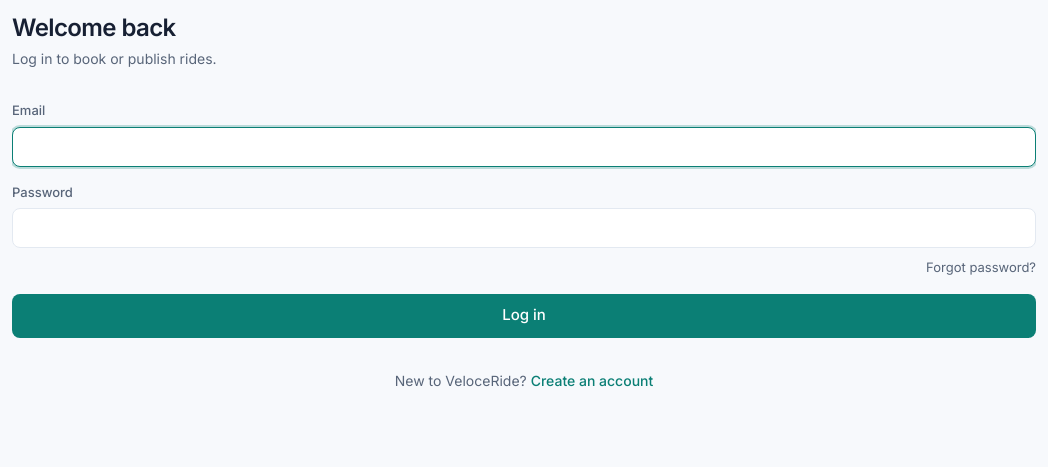
Scenario: authentication flow › shows a clear message for wrong credentials
The width and height of the screenshot is (1048, 467).
Type "asha@example.com" into the field labelled "Email" at x=524, y=146, box x1=12 y1=126 x2=1036 y2=166
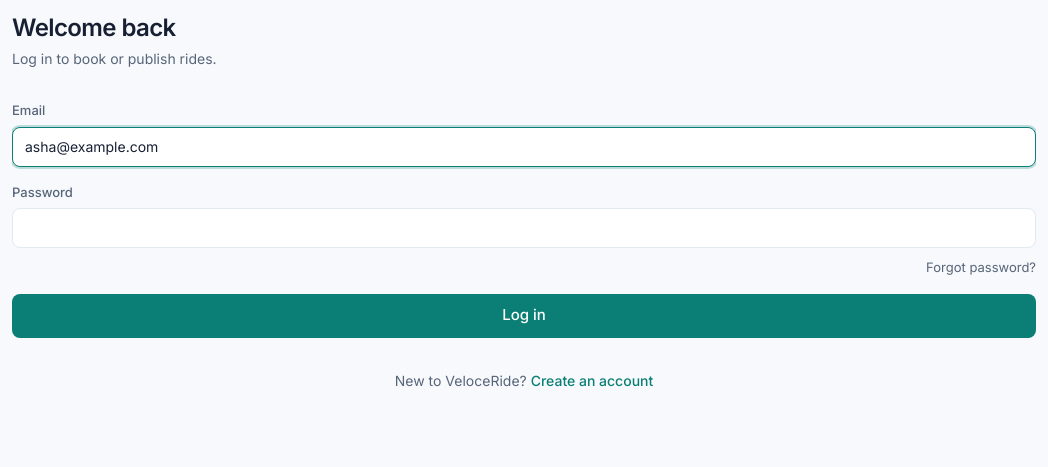
Type "wrong" into the password field labelled "Password" at x=524, y=228, box x1=12 y1=208 x2=1036 y2=248
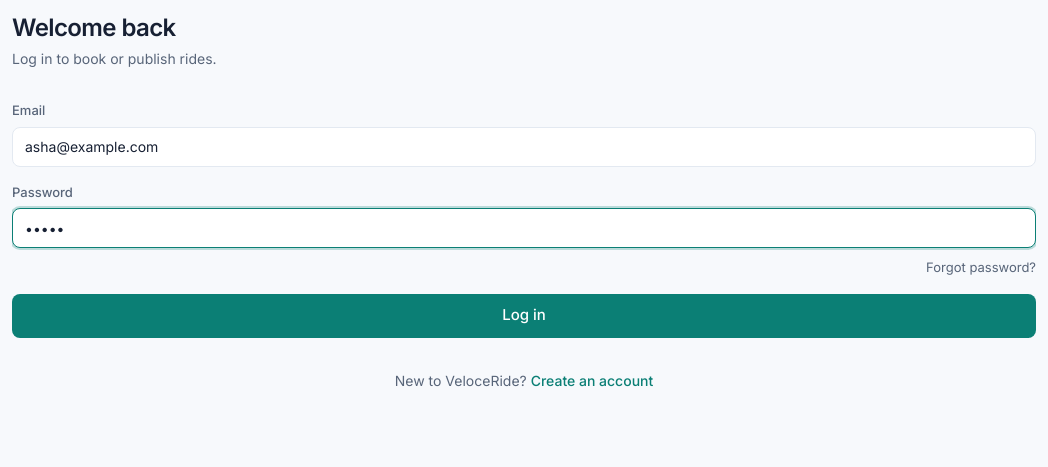
Click the button "Log in" at x=524, y=316, box x1=12 y1=294 x2=1036 y2=338
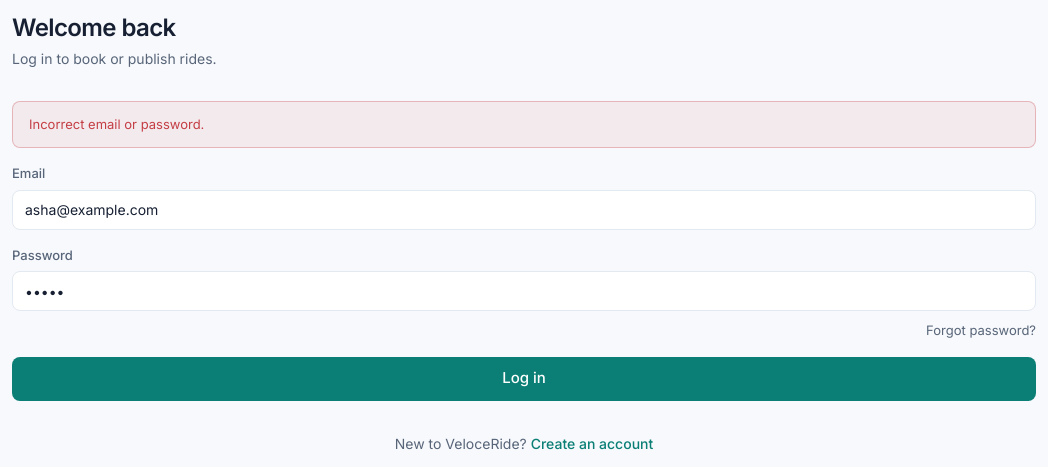
Result: the text "Incorrect email or password." is shown at x1=12 y1=101 x2=1036 y2=148
